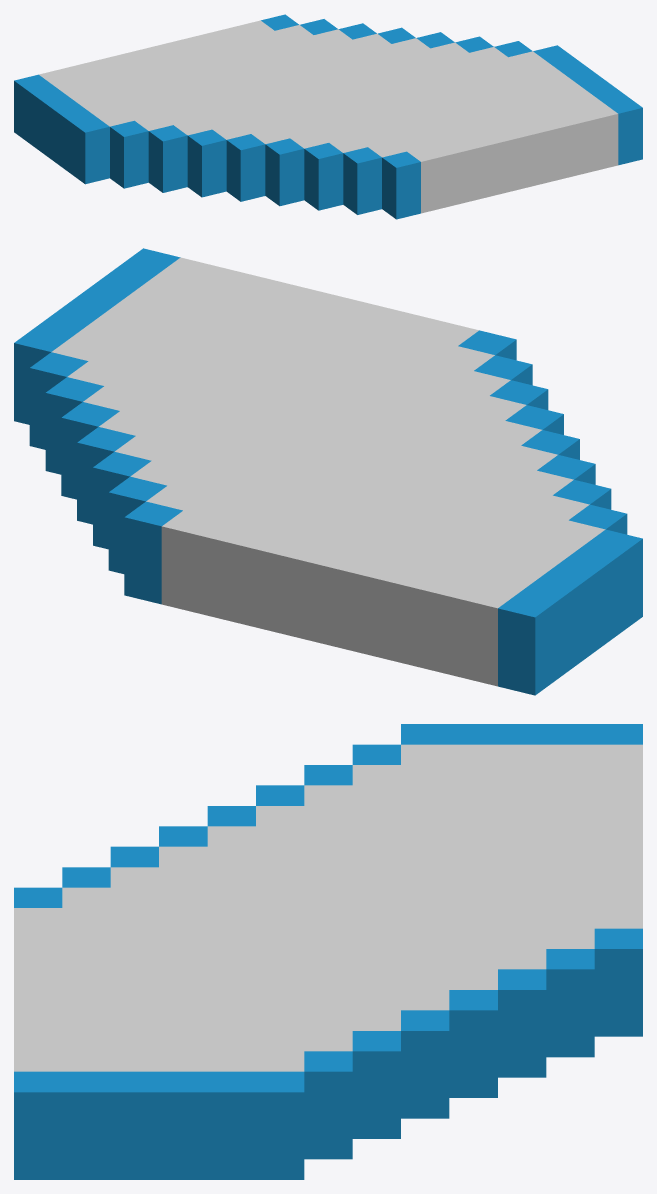
The model's file is DefaultLeft.fbx.
The picture shows the model from 3 angles, top to bottom: view 1: azimuth 30°, elevation 25°; view 2: azimuth 150°, elevation 25°; view 3: azimuth 270°, elevation 25°; orthographic projection. The views are drawn at different scales.
Parts seen in each view (by area): view 1: Matrix_11; view 2: Matrix_11; view 3: Matrix_11.
Boxes of the visible parts, x1=… form: Matrix_11: x1=14, y1=14, x2=642, y2=219; Matrix_11: x1=14, y1=248, x2=642, y2=695; Matrix_11: x1=14, y1=724, x2=642, y2=1179.
Size of the model in its own units: 18 by 2 by 13.
